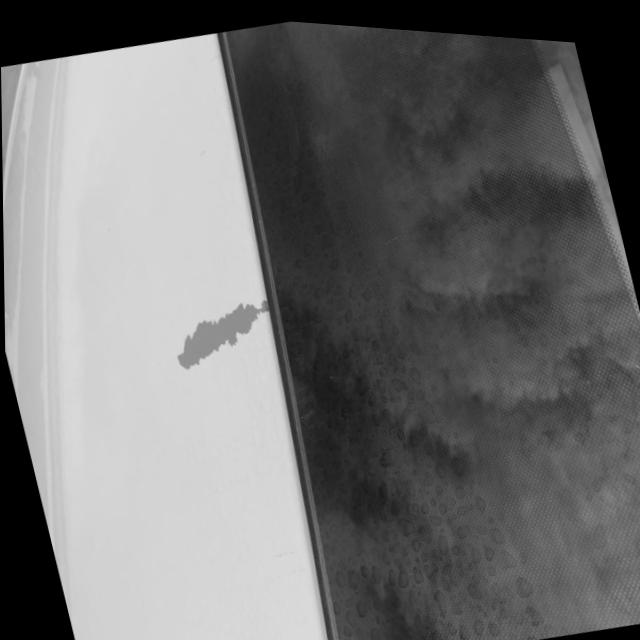Paint-fading: (170, 298, 269, 370)
